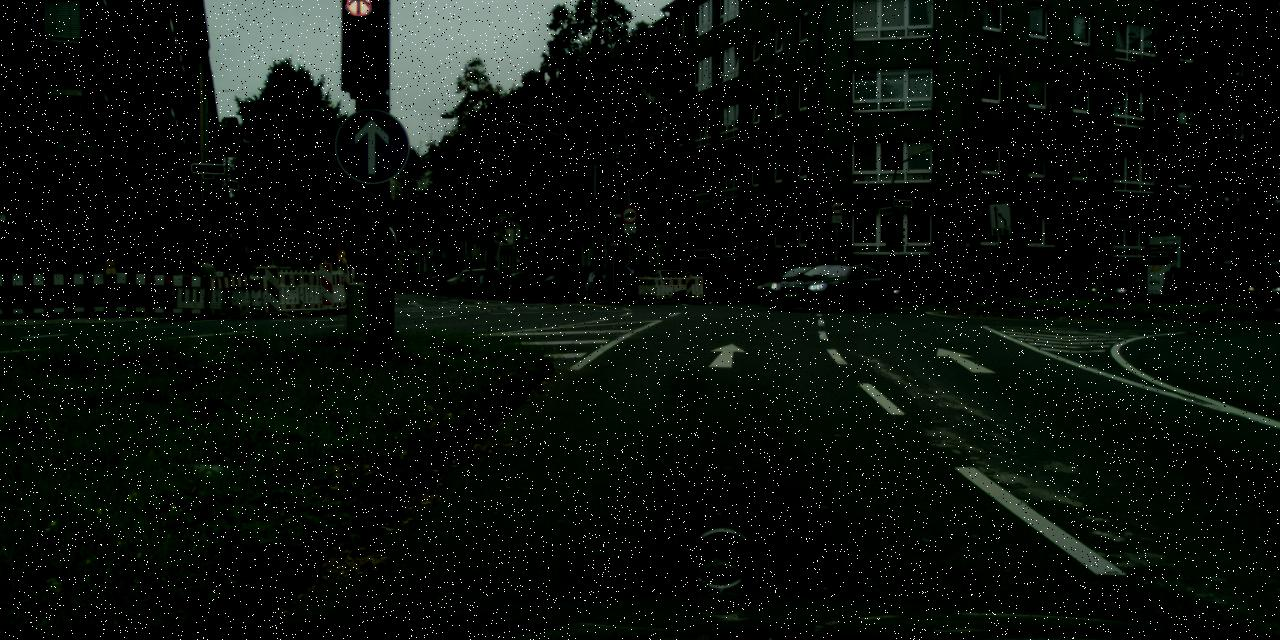ped: (180, 256, 238, 276), (863, 260, 879, 298), (1070, 256, 1086, 294)
